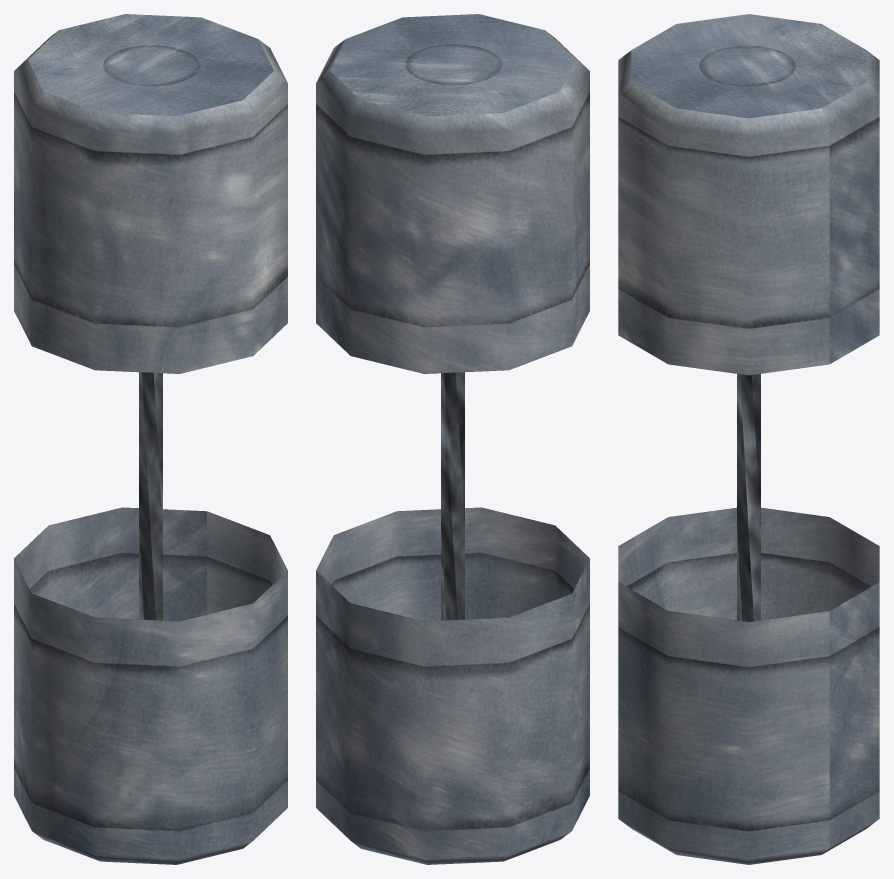
Rendered from fuse.fbx.
The picture shows the model from 3 angles, left to right: view 1: azimuth 30°, elevation 25°; view 2: azimuth 150°, elevation 25°; view 3: azimuth 270°, elevation 25°; orthographic projection.
Visible parts, largest first — view 1: fuse; view 2: fuse; view 3: fuse.
Boxes of the visible parts, left/top/right/bottom form: fuse: left=14, top=14, right=287, bottom=864; fuse: left=316, top=14, right=589, bottom=864; fuse: left=618, top=14, right=879, bottom=864.
Bounding box in the file's own units: 0.0655 × 0.1965 × 0.0623.
Materials: 1 (1 with a texture image).
